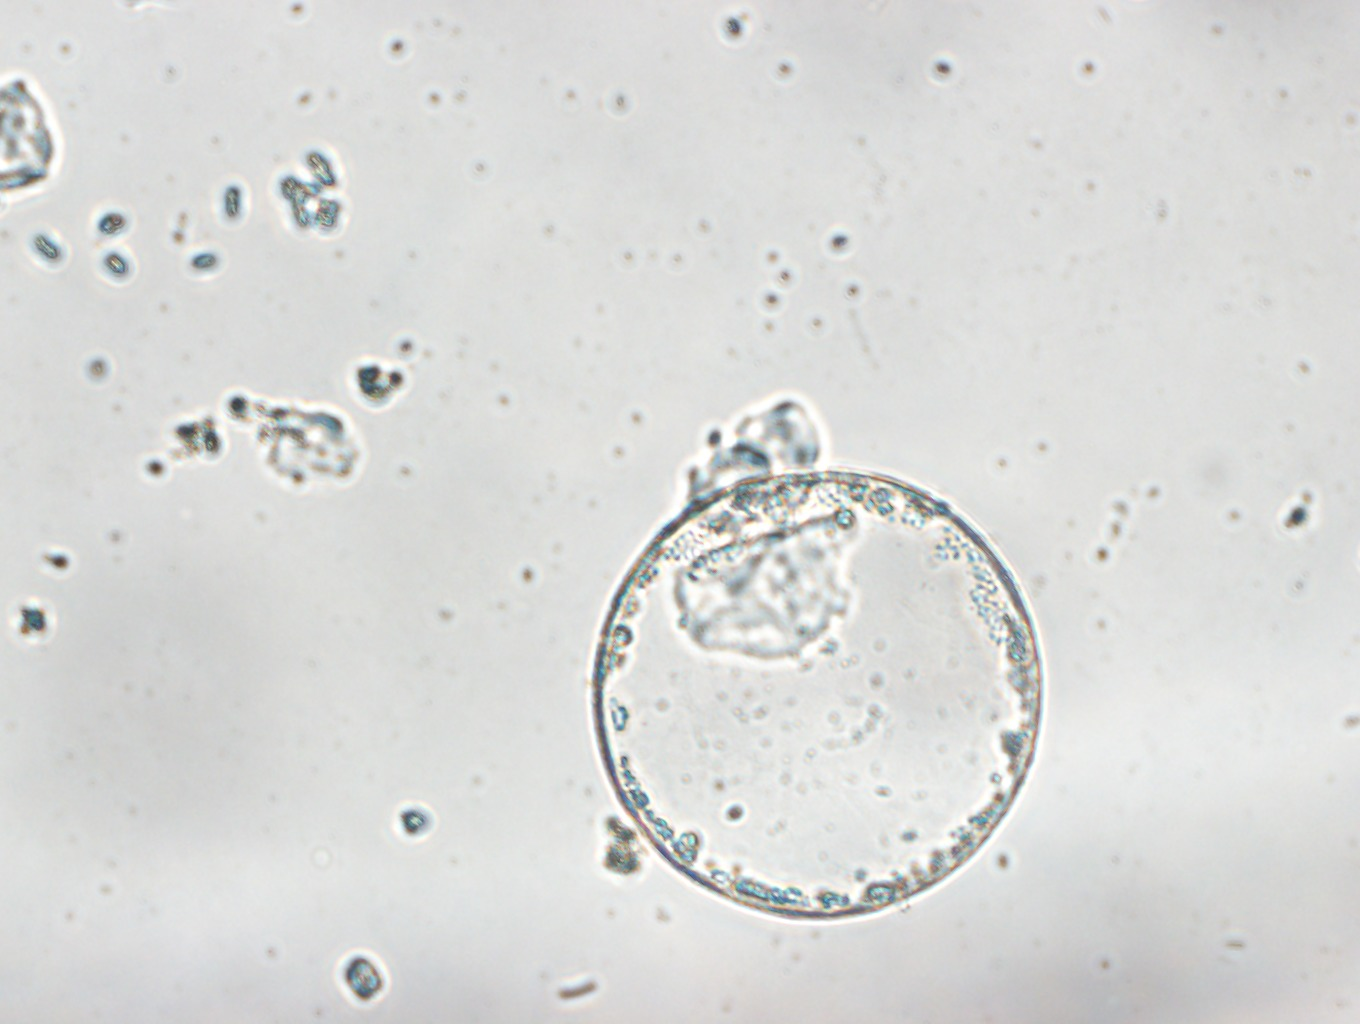coscinodiscus: (595, 473, 1049, 928)
